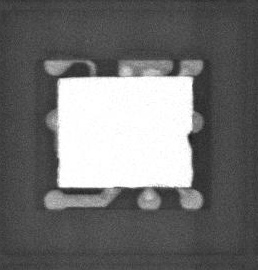DIE_BROKEN: (186, 130, 193, 147)
